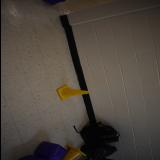cone: (56, 85, 88, 101), (61, 145, 85, 160)
cube: (34, 142, 68, 160), (21, 155, 48, 160)
